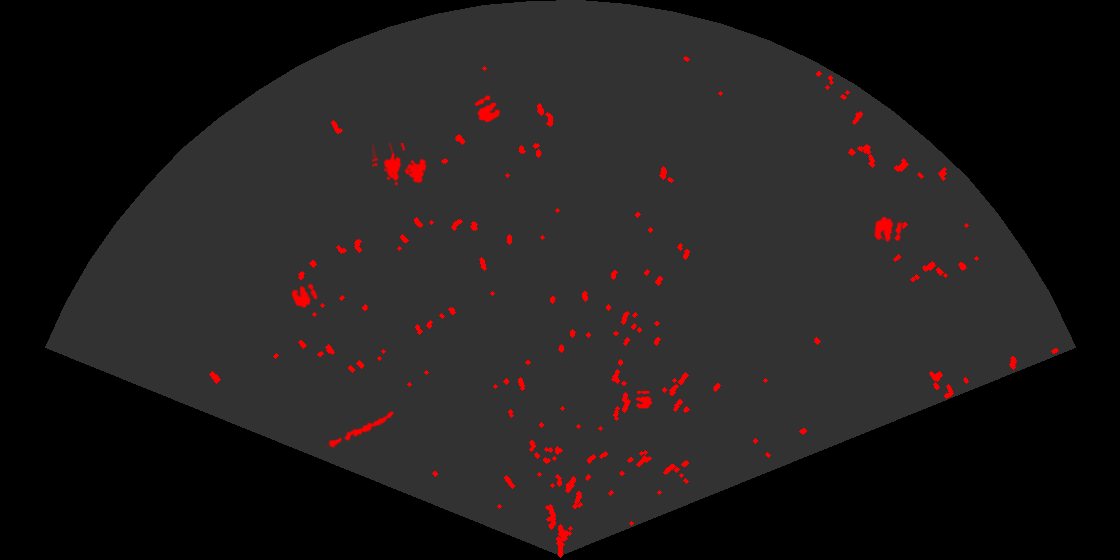ball: (873, 215, 904, 244), (473, 94, 502, 124), (290, 282, 320, 309), (634, 389, 654, 409)
cage: (372, 143, 428, 187)
chain: (325, 409, 397, 450)
